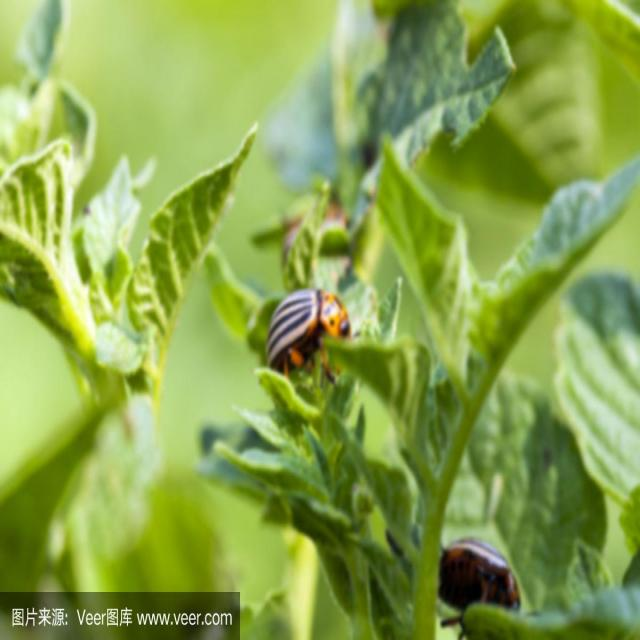ShuCaiHuaBanChong-Grown-: (249, 276, 355, 383)
